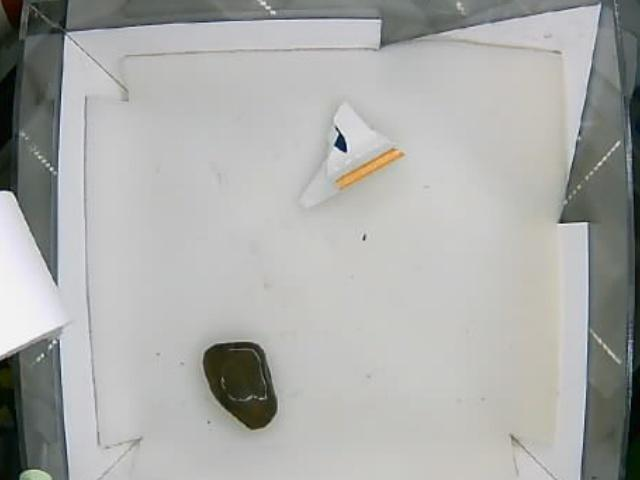China: (290, 101, 406, 208)
Pebble: (198, 339, 278, 433)
